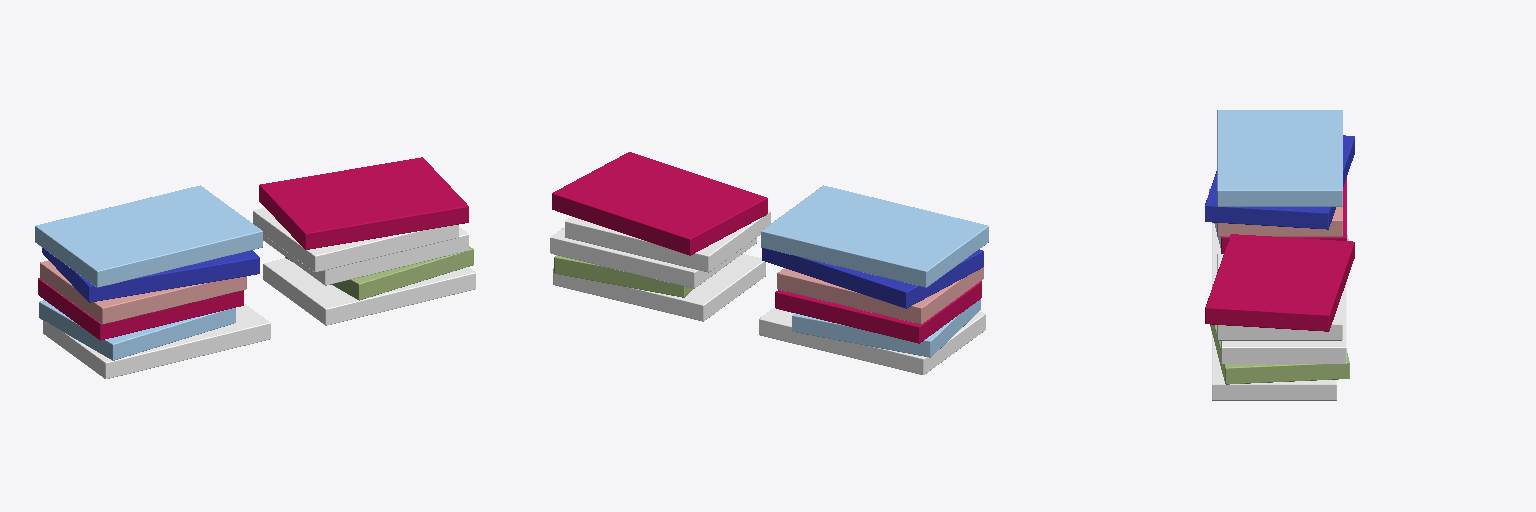
File: book1_2.obj
3 renders of one model, left to right at view 1: azimuth 30°, elevation 25°; view 2: azimuth 150°, elevation 25°; view 3: azimuth 270°, elevation 25°, orthographic.
Parts seen in each view (by area): view 1: 立方体, 立方体.11_1, 立方体.15_1, 立方体.15, 立方体.12_1, 立方体.11, 立方体.12, 立方体.14, 立方体.13, 立方体.13_1, 立方体.14_1; view 2: 立方体, 立方体.11_1, 立方体.15_1, 立方体.15, 立方体.11, 立方体.13, 立方体.12_1, 立方体.12, 立方体.13_1, 立方体.14, 立方体.14_1; view 3: 立方体, 立方体.11_1, 立方体.13_1, 立方体.11, 立方体.15_1, 立方体.14_1, 立方体.12_1, 立方体.12.
Part boxes in pixels (bbox=[...]): 立方体: bbox=[35, 185, 262, 287]; 立方体.11_1: bbox=[259, 157, 468, 249]; 立方体.15_1: bbox=[263, 258, 475, 325]; 立方体.15: bbox=[43, 304, 270, 378]; 立方体.12_1: bbox=[253, 208, 458, 272]; 立方体.11: bbox=[42, 248, 259, 302]; 立方体.12: bbox=[40, 260, 246, 324]; 立方体.14: bbox=[39, 300, 235, 360]; 立方体.13: bbox=[38, 278, 243, 340]; 立方体.13_1: bbox=[263, 227, 468, 285]; 立方体.14_1: bbox=[285, 246, 473, 300]; 立方体: bbox=[761, 185, 988, 287]; 立方体.11_1: bbox=[552, 152, 767, 255]; 立方体.15_1: bbox=[553, 254, 765, 321]; 立方体.15: bbox=[759, 307, 985, 374]; 立方体.11: bbox=[762, 248, 983, 308]; 立方体.13: bbox=[775, 281, 981, 343]; 立方体.12_1: bbox=[565, 210, 770, 272]; 立方体.12: bbox=[777, 267, 983, 324]; 立方体.13_1: bbox=[550, 227, 756, 288]; 立方体.14: bbox=[792, 299, 980, 357]; 立方体.14_1: bbox=[554, 255, 692, 297]; 立方体: bbox=[1217, 110, 1342, 206]; 立方体.11_1: bbox=[1205, 234, 1354, 331]; 立方体.13_1: bbox=[1221, 282, 1346, 363]; 立方体.11: bbox=[1205, 135, 1354, 229]; 立方体.15_1: bbox=[1212, 335, 1336, 400]; 立方体.14_1: bbox=[1210, 325, 1349, 384]; 立方体.12_1: bbox=[1217, 254, 1342, 340]; 立方体.12: bbox=[1217, 207, 1342, 236].
Size of the model in its own units: 92.81 by 24.97 by 31.6.